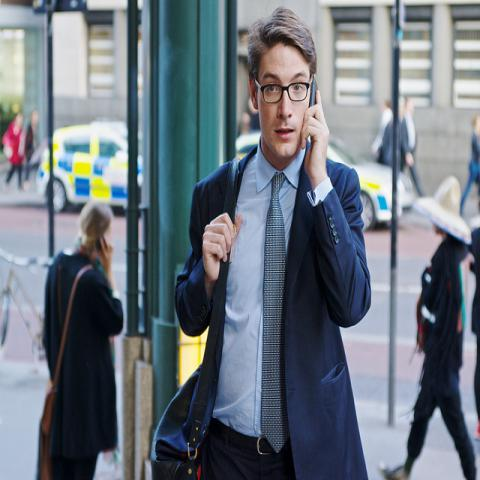car: (234, 130, 405, 232), (37, 123, 132, 215)
